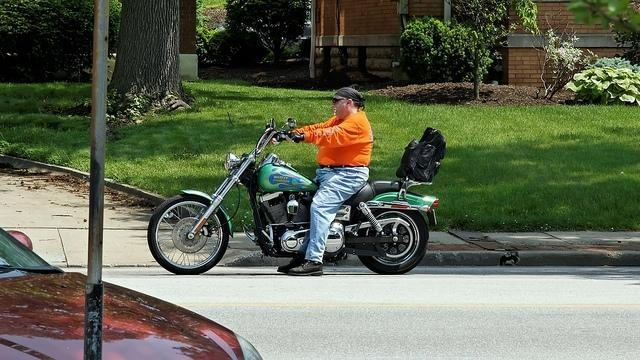car: (2, 225, 262, 356)
motorcycle: (147, 118, 440, 280)
